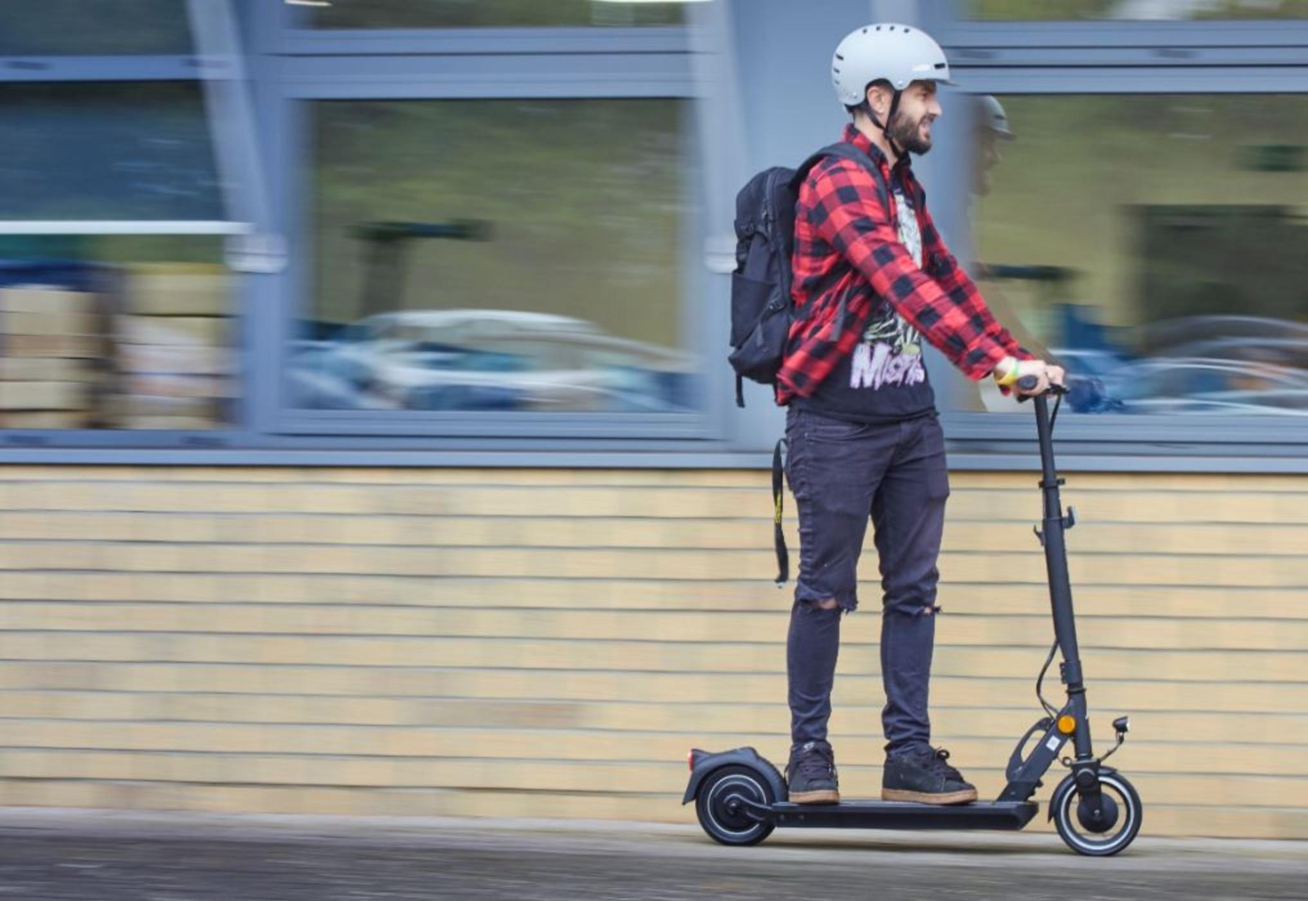helmet: (832, 25, 955, 160)
human: (787, 27, 1020, 806)
kickboard: (685, 747, 1141, 848)
